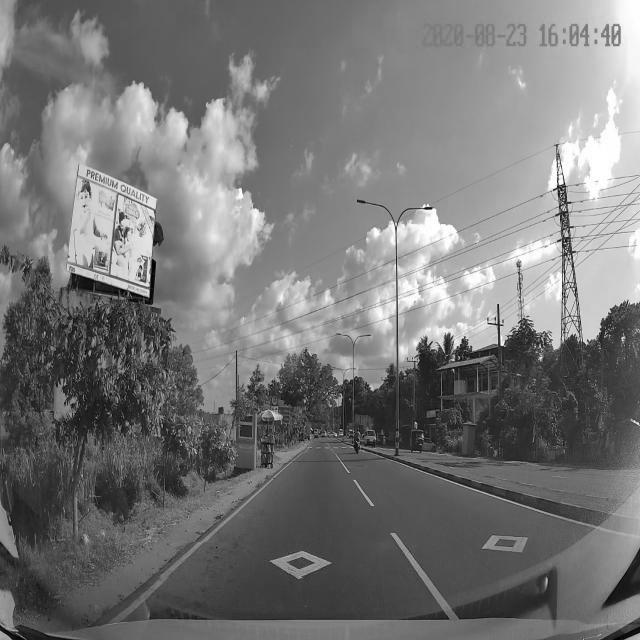diamond: (160, 543, 424, 577)
